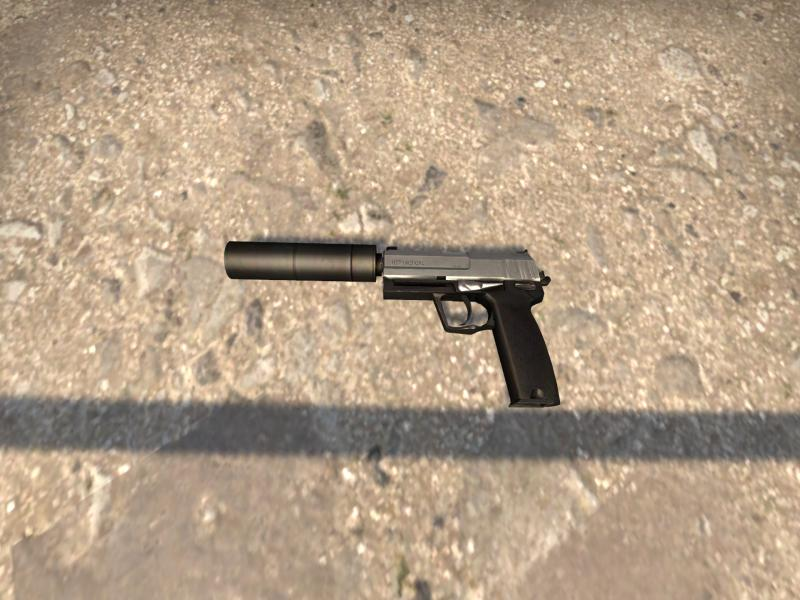USP: (225, 241, 560, 407)
